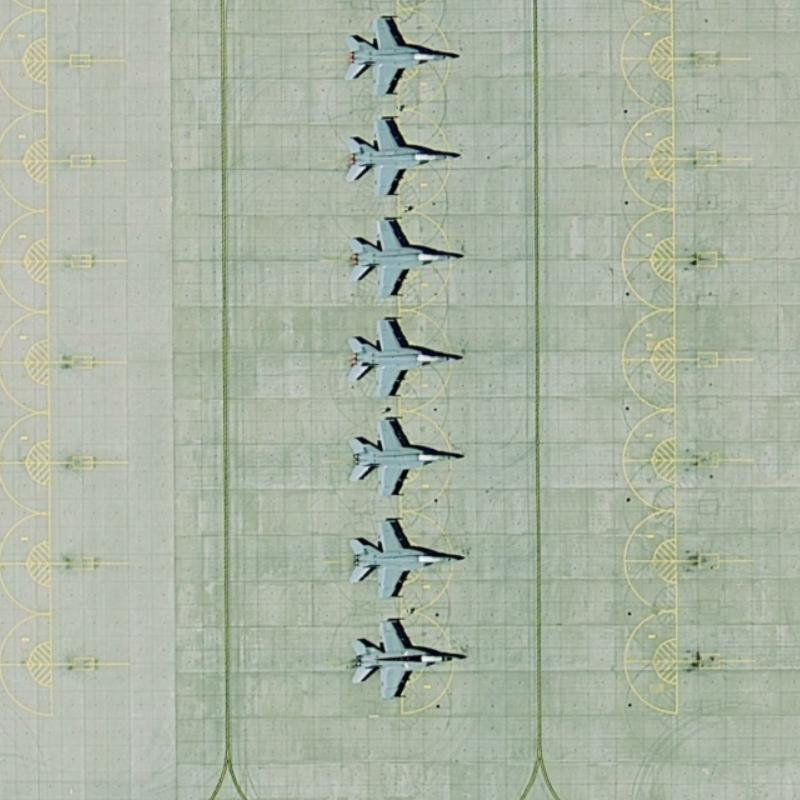A16: (341, 311, 467, 404), (336, 9, 465, 99), (346, 610, 469, 704), (341, 511, 470, 599), (336, 110, 459, 202), (340, 410, 467, 499), (345, 208, 467, 300)
